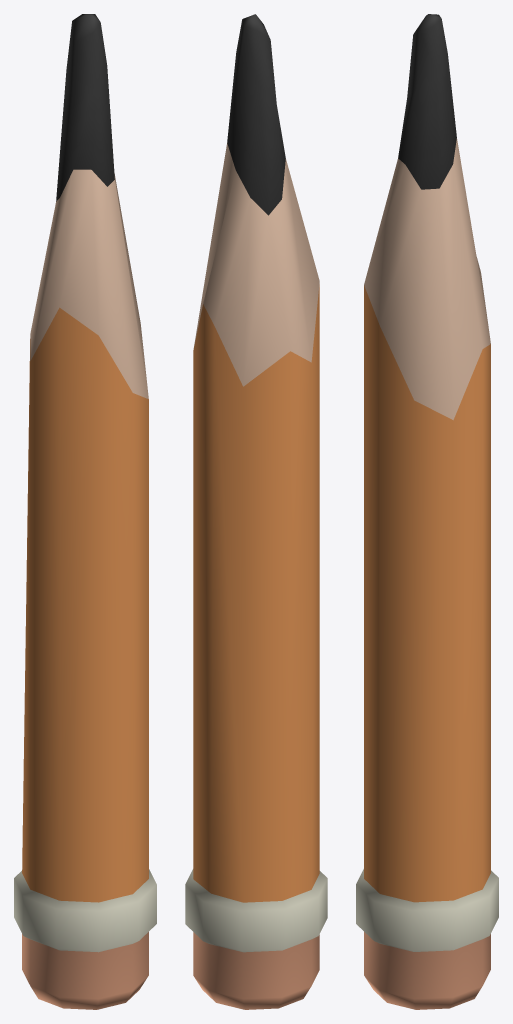
File: HandAcc_10.fbx
3 renders of one model, left to right at view 1: azimuth 30°, elevation 25°; view 2: azimuth 150°, elevation 25°; view 3: azimuth 330°, elevation 25°, orthographic.
Visible parts, largest first — view 1: HandAcc_10; view 2: HandAcc_10; view 3: HandAcc_10.
Part boxes in pixels (box(x1,y1,x2,y2)): HandAcc_10: box(14, 14, 156, 1009); HandAcc_10: box(185, 14, 327, 1009); HandAcc_10: box(356, 14, 498, 1009).
Size of the model in its own units: 6.44 by 48.54 by 6.13.
